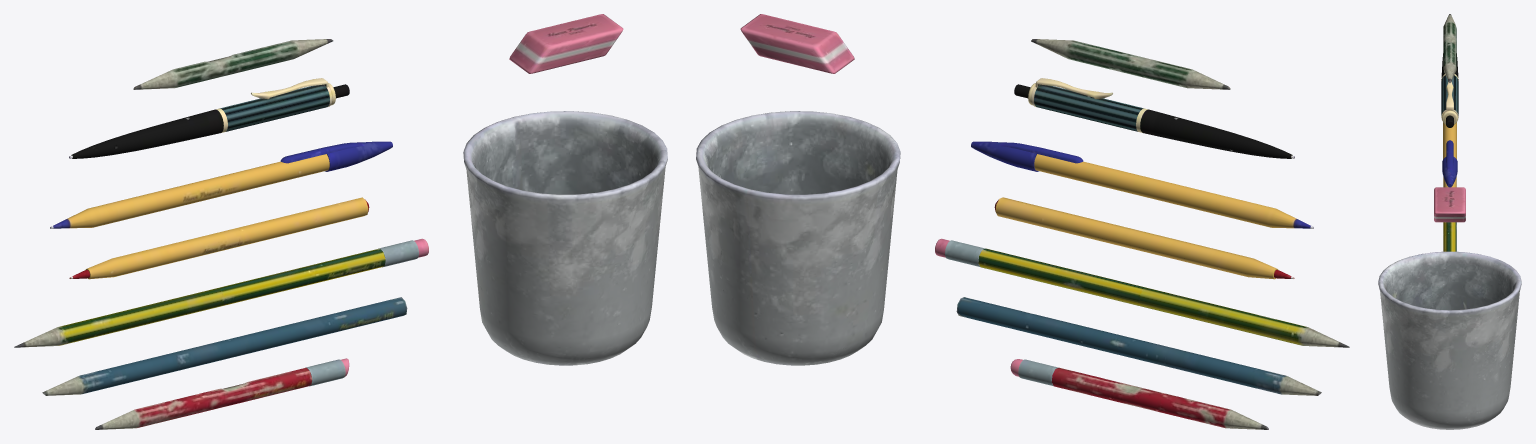
The model's file is stationery_supplies.glb.
3 renders of one model, left to right at view 1: azimuth 30°, elevation 25°; view 2: azimuth 150°, elevation 25°; view 3: azimuth 270°, elevation 25°, orthographic. The views are drawn at different scales.
Visible parts, largest first — view 1: stationery_supplies_pen_red; view 2: stationery_supplies_pen_red; view 3: stationery_supplies_pen_red.
Boxes of the visible parts, x1,y1,x2,y2 form: stationery_supplies_pen_red: (14, 14, 667, 429); stationery_supplies_pen_red: (696, 14, 1349, 429); stationery_supplies_pen_red: (1378, 14, 1521, 429).
Bounding box in the file's own units: 0.3019 × 0.1644 × 0.0837.
1 material, 1 textured.
